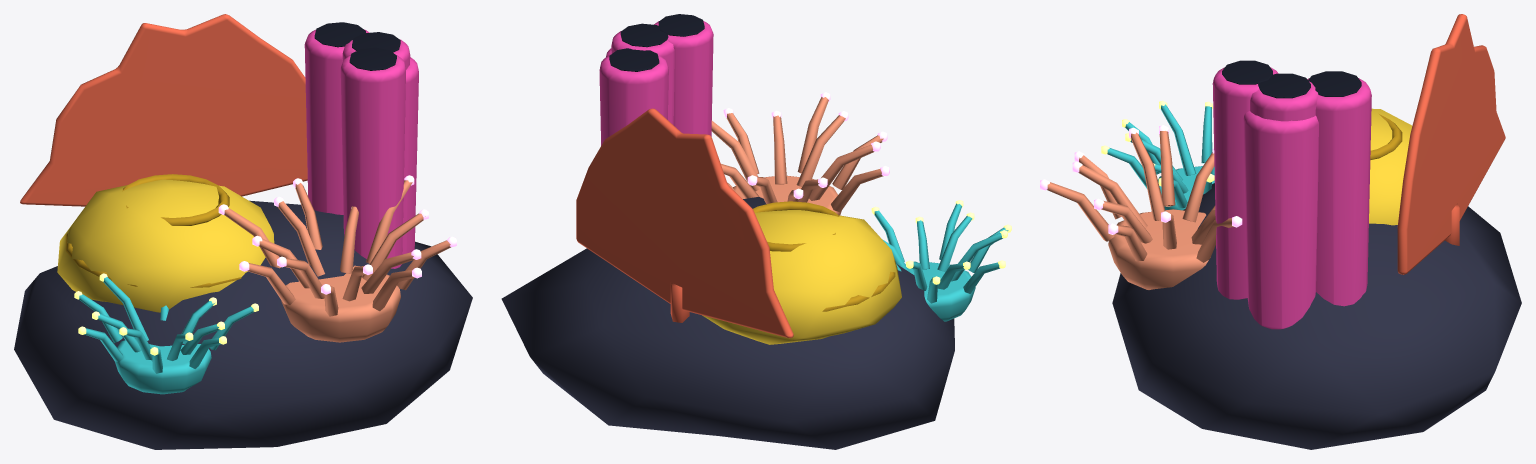
The model's file is aqua_reef_b.glb.
3 views of the same model, side by side, from view 1: azimuth 30°, elevation 25°; view 2: azimuth 150°, elevation 25°; view 3: azimuth 270°, elevation 25° (orthographic). The views are drawn at different scales.
Visible parts, largest first — view 1: ReefB; view 2: ReefB; view 3: ReefB.
Boxes of the visible parts, <box> form: ReefB: <box>14,14,472,449</box>; ReefB: <box>501,14,1011,449</box>; ReefB: <box>1040,14,1521,449</box>.
Size of the model in its own units: 1.73 by 1.22 by 1.57.
